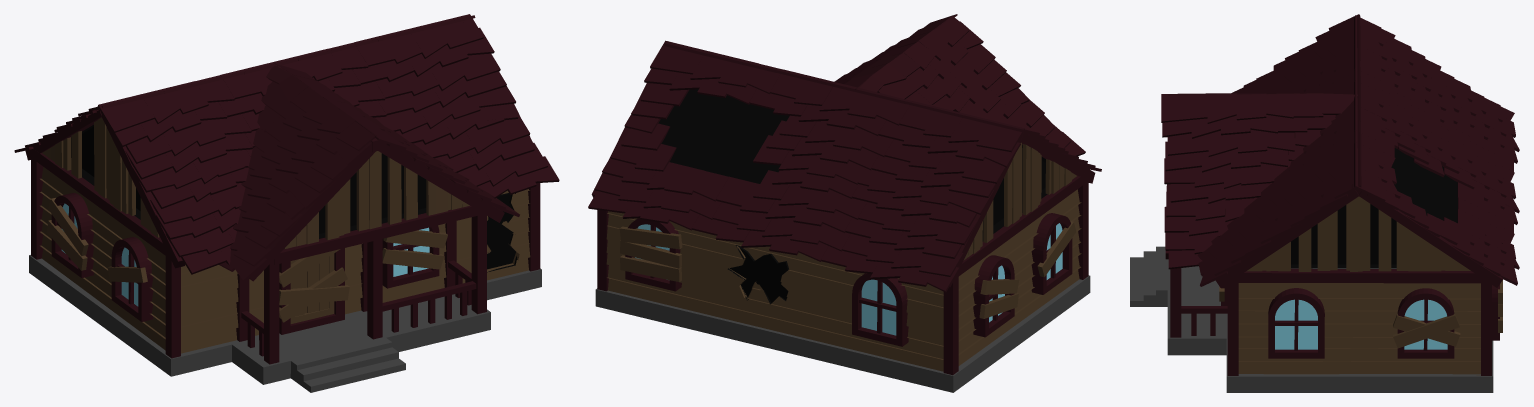
File: destroyed house.fbx
The picture shows the model from 3 angles, left to right: view 1: azimuth 30°, elevation 25°; view 2: azimuth 150°, elevation 25°; view 3: azimuth 270°, elevation 25°; orthographic projection. The views are drawn at different scales.
Visible parts, largest first — view 1: Home12_LOD0; view 2: Home12_LOD0; view 3: Home12_LOD0.
Boxes of the visible parts, box(x1,y1,x2,y2) form: Home12_LOD0: box(14, 14, 559, 392); Home12_LOD0: box(588, 14, 1101, 392); Home12_LOD0: box(1130, 14, 1519, 392).
Size of what is drawn, in the model's own units: 2190 by 1210 by 2041.
